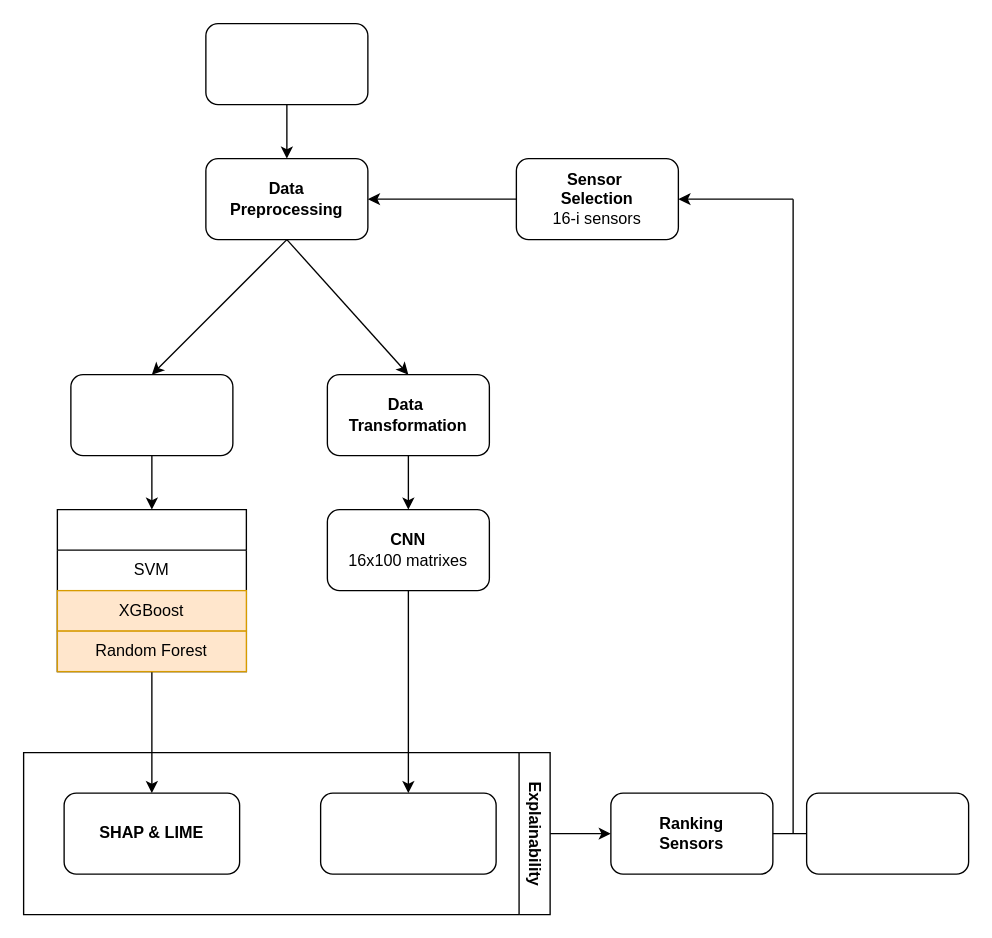
Image size: 992x938. Some labels were removed from this diagram. Each missing label, with the box of its shape:
Feature Extraction: (70, 373, 233, 456)
GRAD-CAM Analysis: (319, 792, 496, 874)
Input Signal 16 sensors: (205, 22, 368, 105)
Machine Learning: (56, 508, 246, 672)
Optimal Features: (805, 792, 969, 874)
